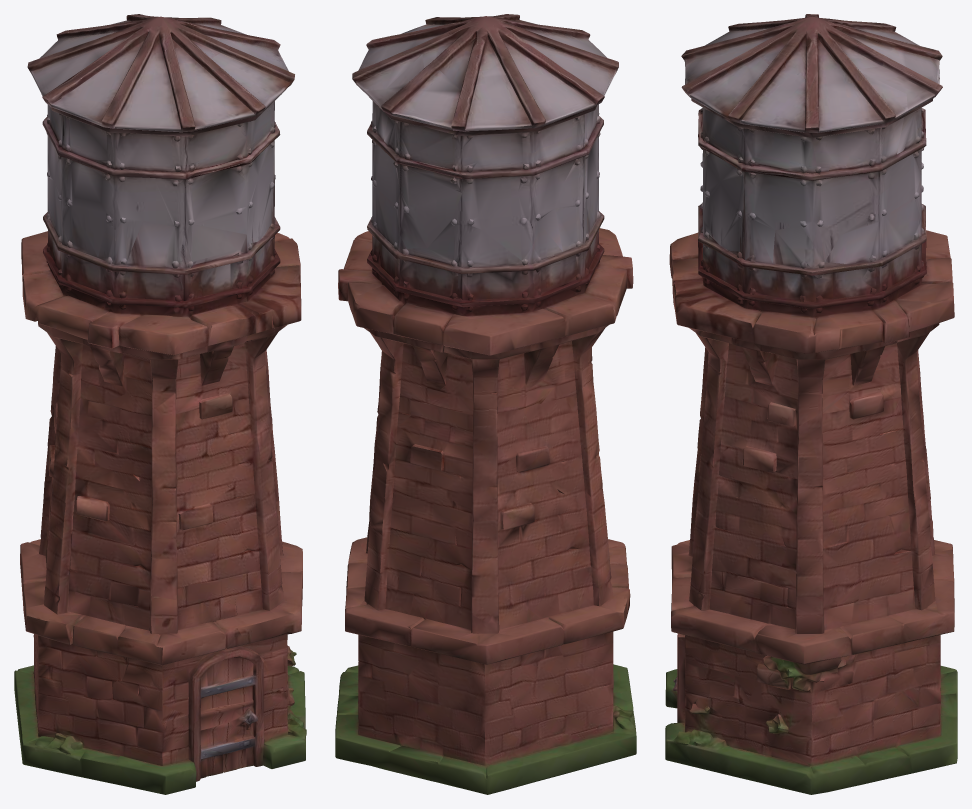
Rendered from water_tower_kirpichnaya_idle.glb.
3 views of the same model, side by side, from view 1: azimuth 30°, elevation 25°; view 2: azimuth 150°, elevation 25°; view 3: azimuth 270°, elevation 25° (orthographic).
Parts seen in each view (by area): view 1: tripo_node_7b65e876-5d2b-4d36-916c-80ae34e1ce0a; view 2: tripo_node_7b65e876-5d2b-4d36-916c-80ae34e1ce0a; view 3: tripo_node_7b65e876-5d2b-4d36-916c-80ae34e1ce0a.
Boxes of the visible parts, x1,y1,x2,y2 form: tripo_node_7b65e876-5d2b-4d36-916c-80ae34e1ce0a: (14, 14, 306, 794); tripo_node_7b65e876-5d2b-4d36-916c-80ae34e1ce0a: (335, 14, 636, 794); tripo_node_7b65e876-5d2b-4d36-916c-80ae34e1ce0a: (665, 14, 957, 794).
Bounding box in the file's own units: 4.24 × 10 × 3.74.
Materials: 1 (1 with a texture image).
